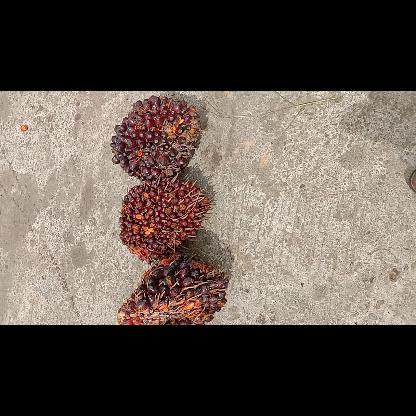Kurang masak: (109, 95, 201, 182), (121, 184, 209, 263)
TBS masak: (116, 254, 228, 324)
